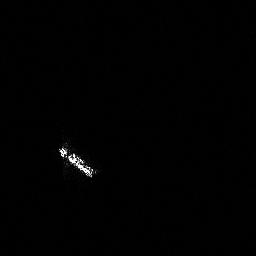ship: (54, 140, 102, 181)
